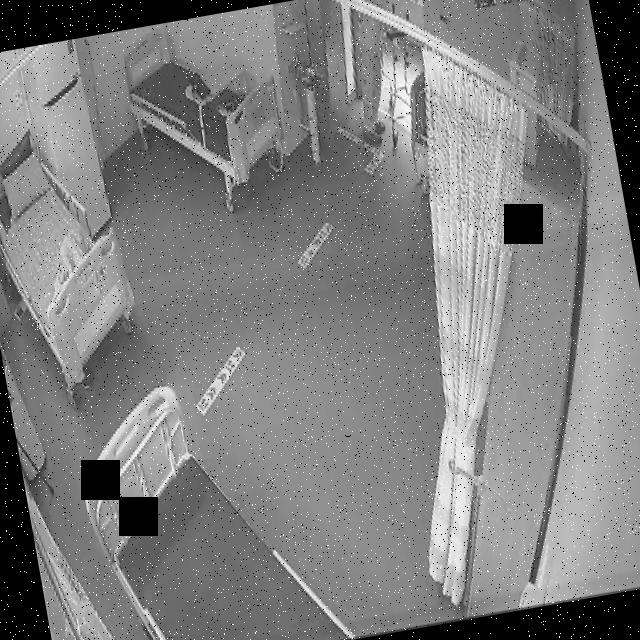bed: (64, 359, 350, 640), (0, 136, 143, 379), (119, 13, 291, 199)
patient: (335, 0, 418, 151)
stand: (336, 0, 418, 150)
